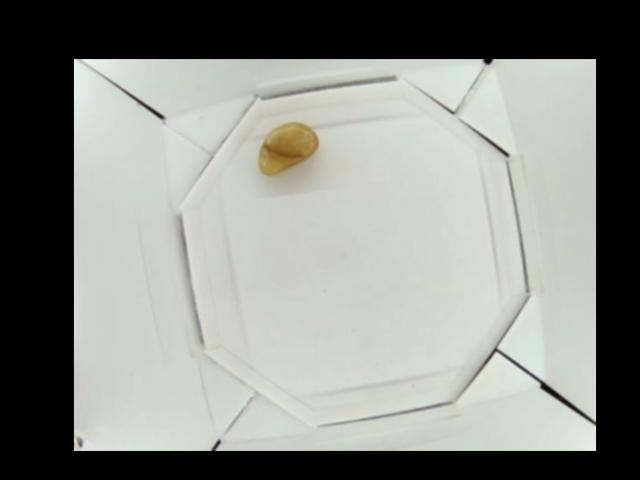Pebble: (251, 121, 321, 175)
